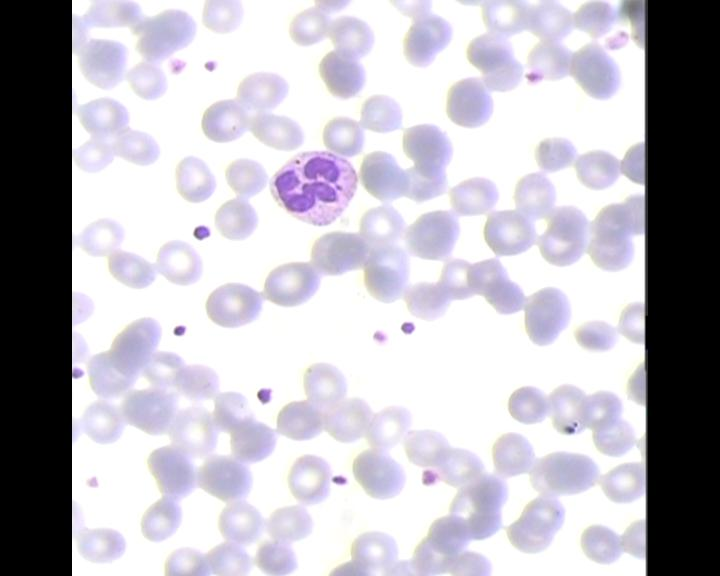neut: (266, 149, 356, 229)
